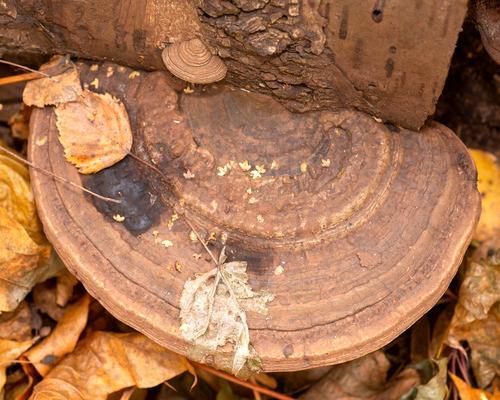Ganoderma - Fruit Body: (27, 52, 487, 375)
